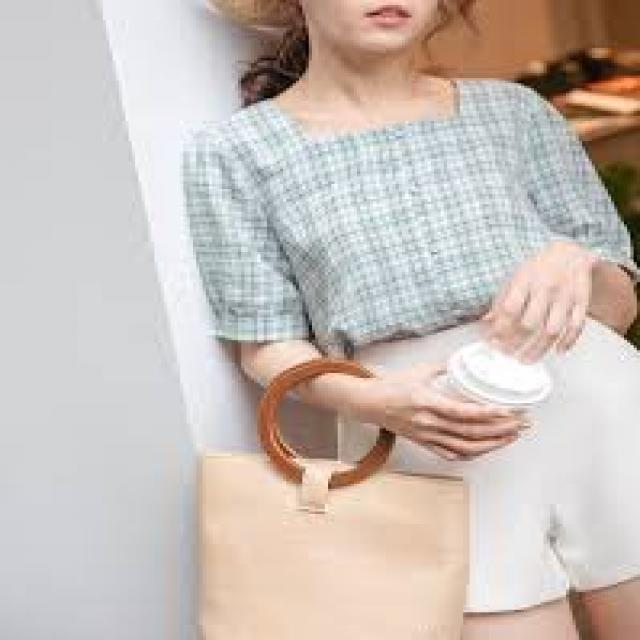plaid: (162, 77, 632, 335)
